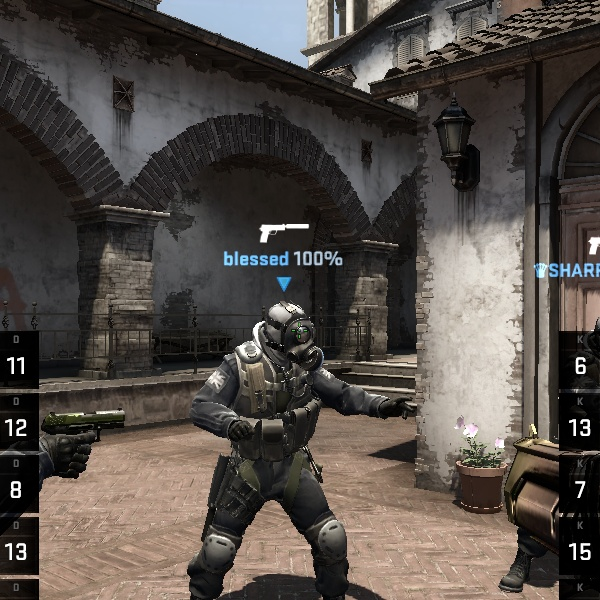ct_body: (190, 293, 370, 600)
ct_head: (251, 297, 324, 367)
